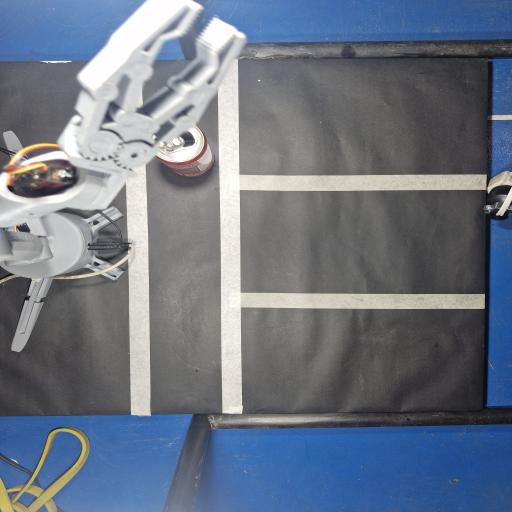lata: (156, 126, 214, 177)
